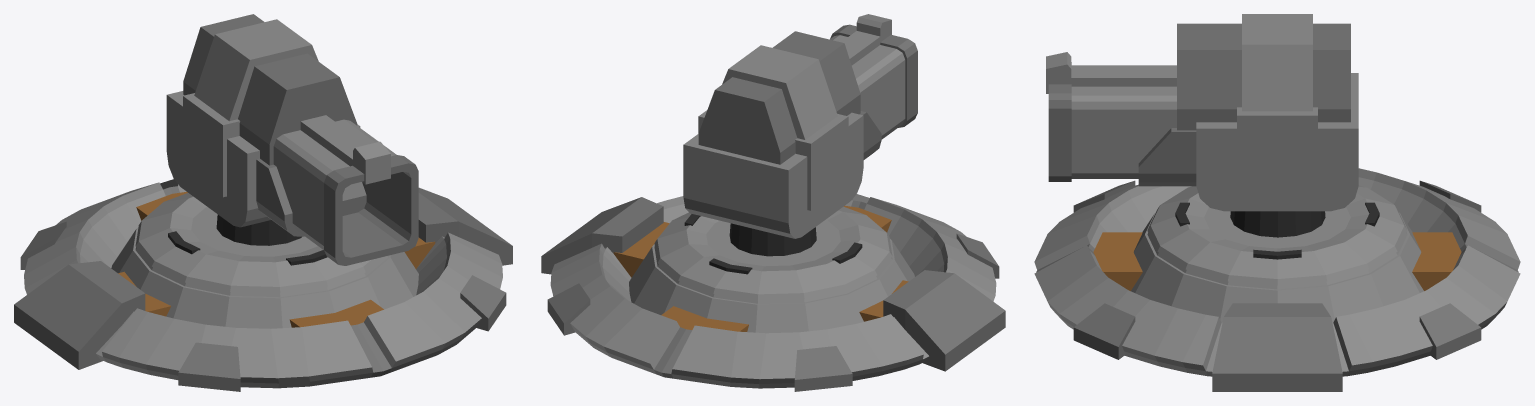
The model's file is TurretCannon.glb.
3 views of the same model, side by side, from view 1: azimuth 30°, elevation 25°; view 2: azimuth 150°, elevation 25°; view 3: azimuth 270°, elevation 25° (orthographic). The views are drawn at different scales.
Parts seen in each view (by area): view 1: Turret_Cannon_Base, Turret_Cannon_Top; view 2: Turret_Cannon_Base, Turret_Cannon_Top; view 3: Turret_Cannon_Base, Turret_Cannon_Top.
Boxes of the visible parts, left/top/right/bottom form: Turret_Cannon_Base: left=14, top=179, right=512, bottom=391; Turret_Cannon_Top: left=166, top=14, right=418, bottom=265; Turret_Cannon_Base: left=541, top=194, right=1005, bottom=391; Turret_Cannon_Top: left=683, top=14, right=917, bottom=256; Turret_Cannon_Base: left=1034, top=168, right=1520, bottom=391; Turret_Cannon_Top: left=1046, top=14, right=1358, bottom=237.
Bounding box in the file's own units: 1.16 × 0.6472 × 1.11.
